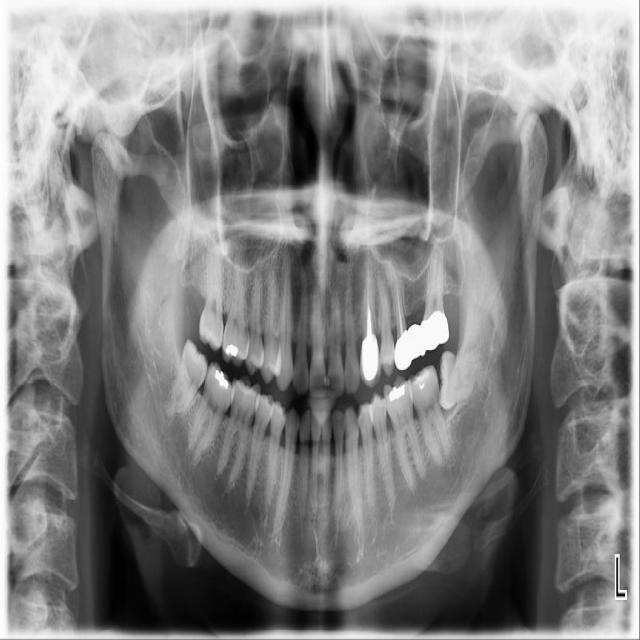52: (380, 303, 461, 374), (193, 358, 246, 413), (376, 371, 423, 428), (401, 363, 447, 409), (218, 321, 253, 371), (360, 334, 382, 388)
73: (362, 236, 378, 342), (389, 256, 408, 339), (616, 577, 618, 588)
BioHorizons Implant: (415, 234, 451, 352)
Biomet 3i Implant: (437, 350, 481, 412)
Blue Sky Bio Implant: (405, 363, 454, 470)
Caries: (199, 236, 226, 352)
Implant: (181, 359, 242, 469)
Keystone Dental Implant: (161, 337, 216, 426)
